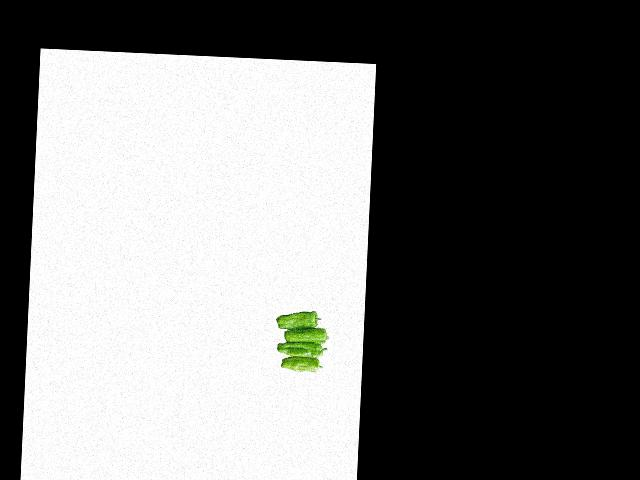bell_pepper: (272, 309, 323, 331)
